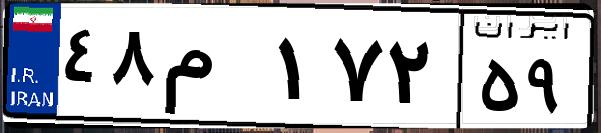1: (270, 28, 330, 110)
2: (385, 28, 445, 110)
4: (57, 26, 110, 100)
5: (475, 38, 525, 113)
7: (330, 28, 385, 110)
8: (110, 28, 158, 98)
9: (525, 38, 570, 115)
م: (158, 20, 270, 120)
